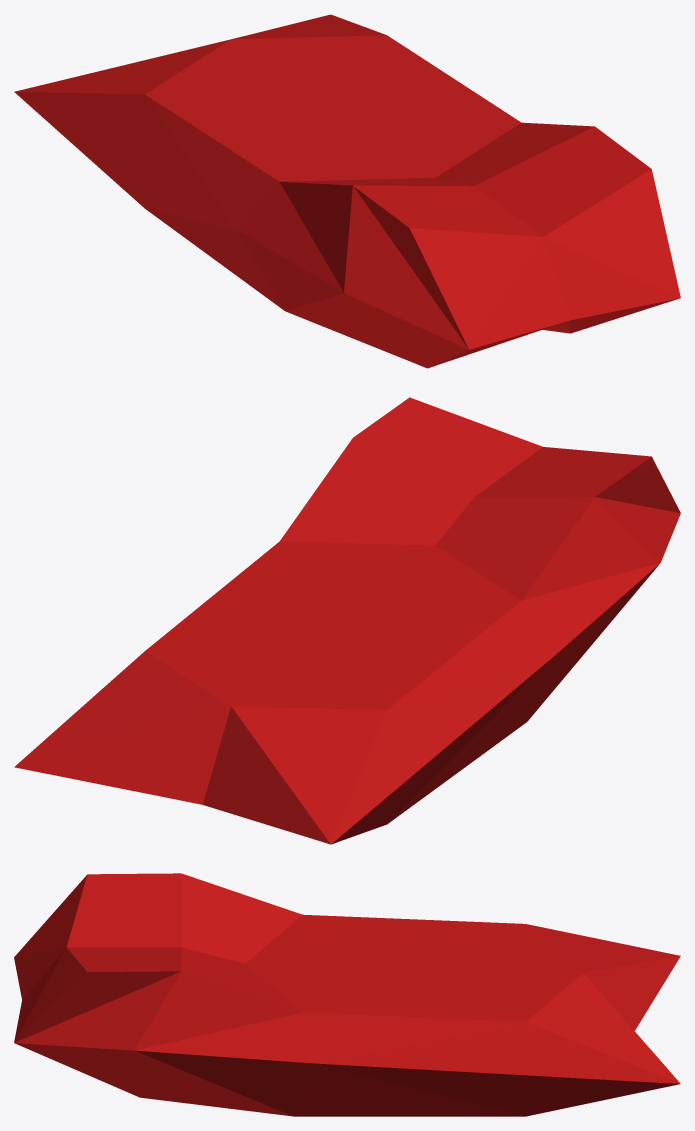
The model's file is tank_base.fbx.
3 views of the same model, one above another, from view 1: azimuth 30°, elevation 25°; view 2: azimuth 150°, elevation 25°; view 3: azimuth 270°, elevation 25° (orthographic). The views are drawn at different scales.
Parts seen in each view (by area): view 1: Cube.001; view 2: Cube.001; view 3: Cube.001.
Boxes of the visible parts, left/top/right/bottom form: Cube.001: left=14, top=14, right=680, bottom=368; Cube.001: left=14, top=397, right=680, bottom=844; Cube.001: left=14, top=873, right=680, bottom=1116.
Size of the model in its own units: 303 by 161 by 667.
